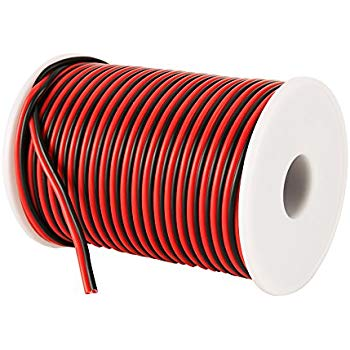Nonrec_Tangler: (7, 44, 346, 316)
